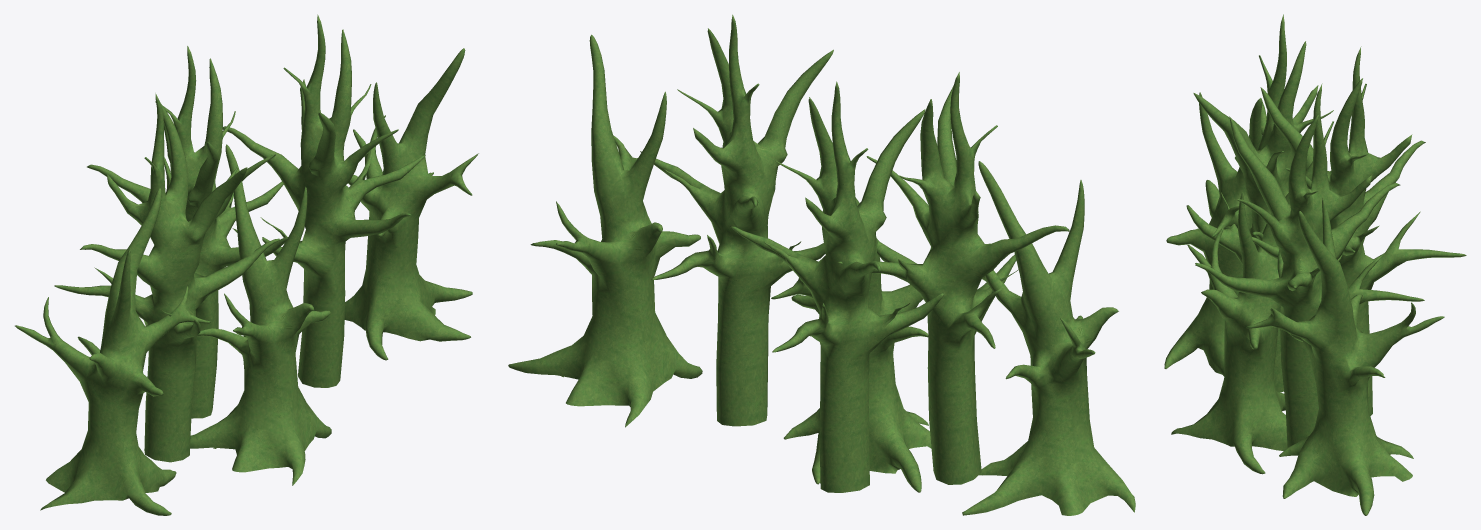
The model's file is SM_ENV_KNFRST_DistanceTree_GroupC.FBX.
3 renders of one model, left to right at view 1: azimuth 30°, elevation 25°; view 2: azimuth 150°, elevation 25°; view 3: azimuth 270°, elevation 25°, orthographic. The views are drawn at different scales.
Visible parts, largest first — view 1: SM_ENV_KNFRST_DistanceTree_GroupC; view 2: SM_ENV_KNFRST_DistanceTree_GroupC; view 3: SM_ENV_KNFRST_DistanceTree_GroupC.
Boxes of the visible parts, box(x1,y1,x2,y2) form: SM_ENV_KNFRST_DistanceTree_GroupC: box(15, 14, 478, 515); SM_ENV_KNFRST_DistanceTree_GroupC: box(508, 14, 1135, 515); SM_ENV_KNFRST_DistanceTree_GroupC: box(1164, 14, 1466, 515).
Bounding box in the file's own units: 13419 × 10247 × 7006.
